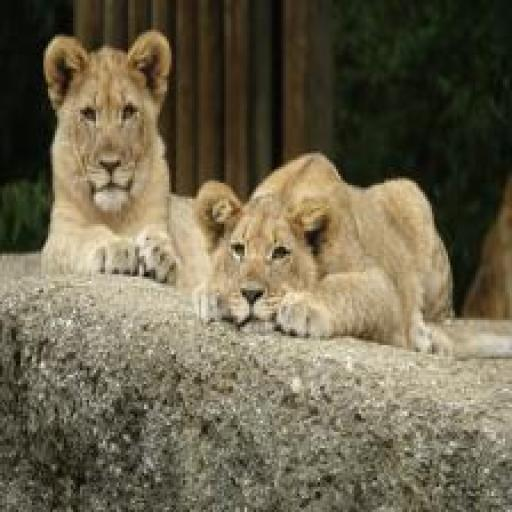lion: (194, 137, 464, 360), (32, 23, 198, 287)
